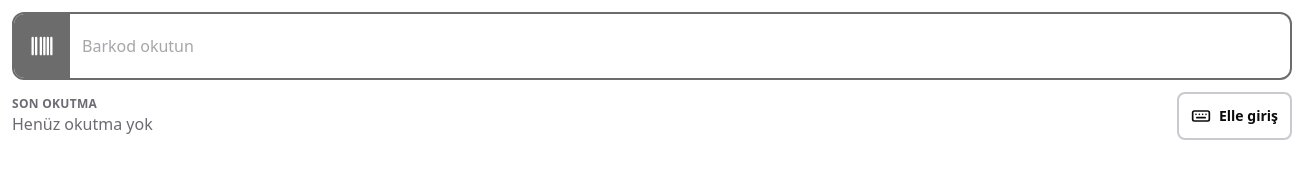
Test case: <ScanInput> › drops scans while disabled
Step 1. Type "TZ-B03-L12" into the field with test id "scan-input" → [680, 46], box [70,14,1290,78]
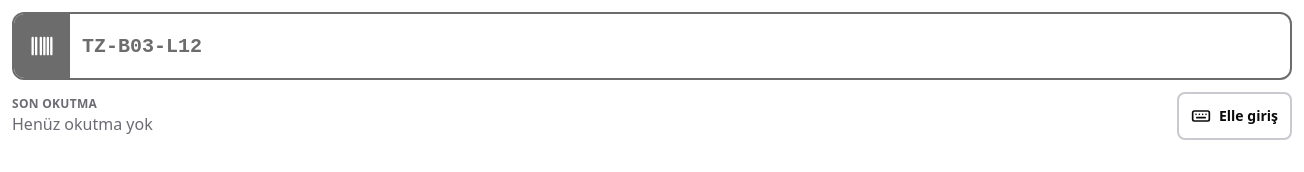
Step 2. Press Enter in the field with test id "scan-input", box [70,14,1290,78]
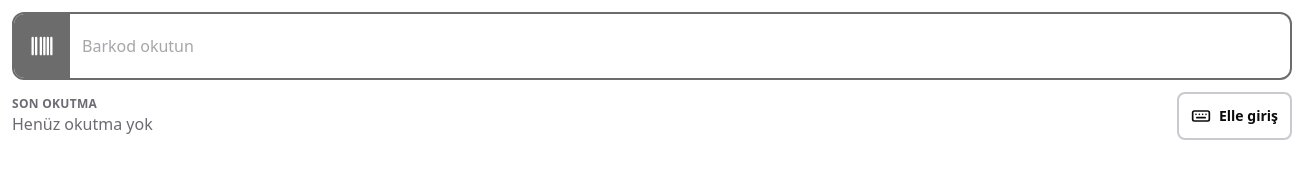
Now the field with test id "scan-input" is empty, box [70,14,1290,78]
